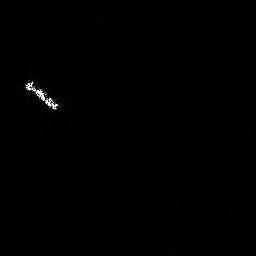ship: (26, 80, 58, 109)
